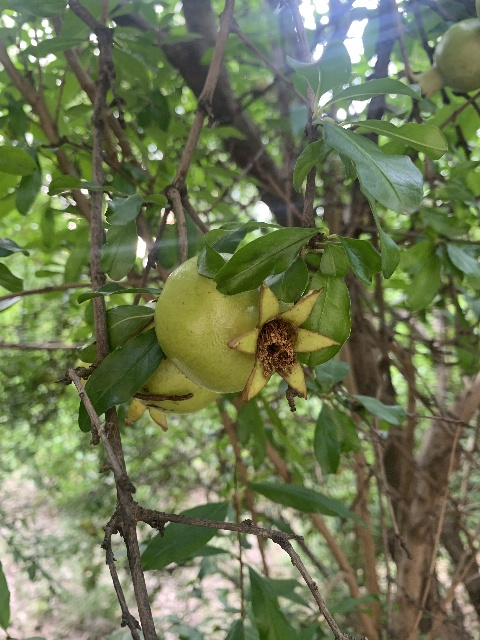mid-growth: (154, 251, 340, 401), (123, 299, 222, 432), (411, 17, 480, 99)
